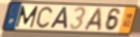3: (69, 6, 87, 31)
6: (103, 8, 123, 33)
A: (48, 6, 69, 30), (82, 7, 102, 32)
C: (35, 6, 53, 29)
M: (15, 5, 40, 29)
